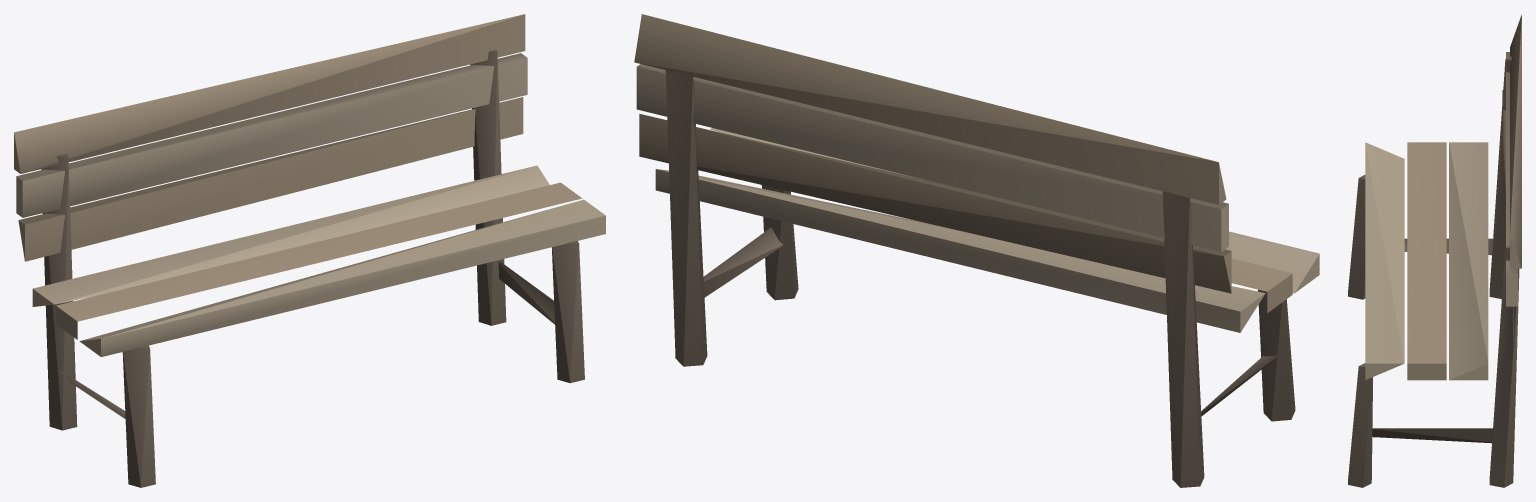
Rendered from bench.lod1.glb.
The picture shows the model from 3 angles, left to right: view 1: azimuth 30°, elevation 25°; view 2: azimuth 150°, elevation 25°; view 3: azimuth 270°, elevation 25°; orthographic projection. The views are drawn at different scales.
Size of the model in its own units: 2 by 1.11 by 0.6628.
